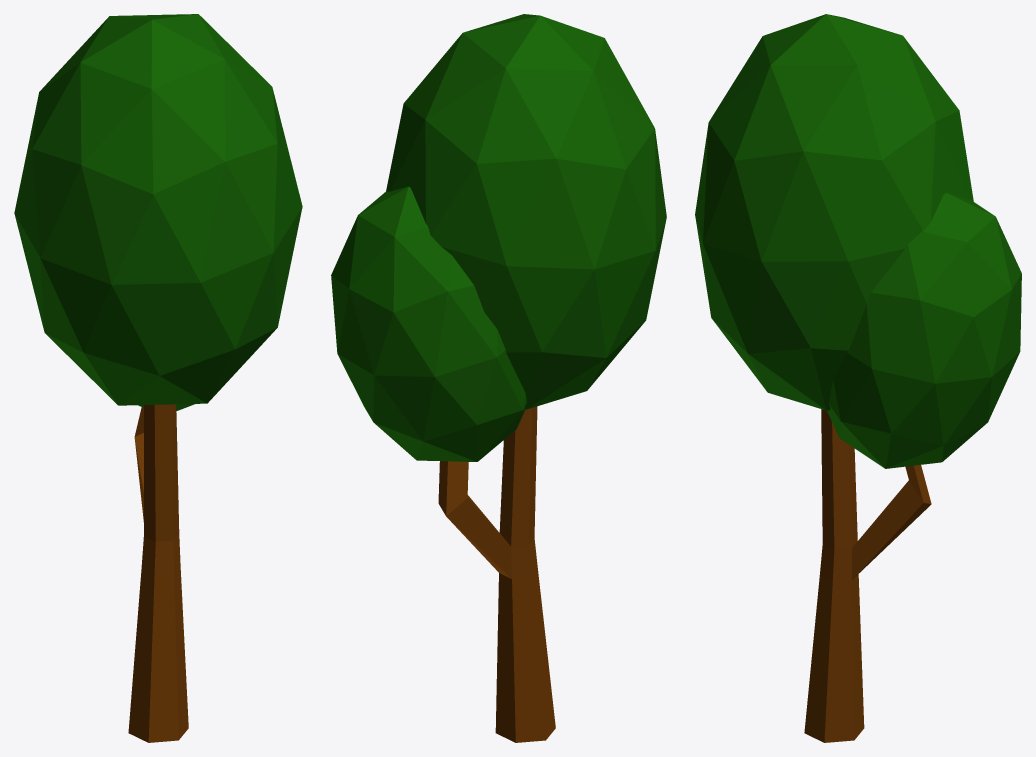
Rendered from tree2.glb.
The picture shows the model from 3 angles, left to right: view 1: azimuth 30°, elevation 25°; view 2: azimuth 150°, elevation 25°; view 3: azimuth 270°, elevation 25°; orthographic projection.
Parts seen in each view (by area): view 1: Icosphere.001; view 2: Icosphere.001; view 3: Icosphere.001.
Boxes of the visible parts, left/top/right/bottom form: Icosphere.001: left=14, top=14, right=302, bottom=742; Icosphere.001: left=331, top=14, right=666, bottom=742; Icosphere.001: left=695, top=14, right=1021, bottom=742.
Bounding box in the file's own units: 5.77 × 15.15 × 6.31.
